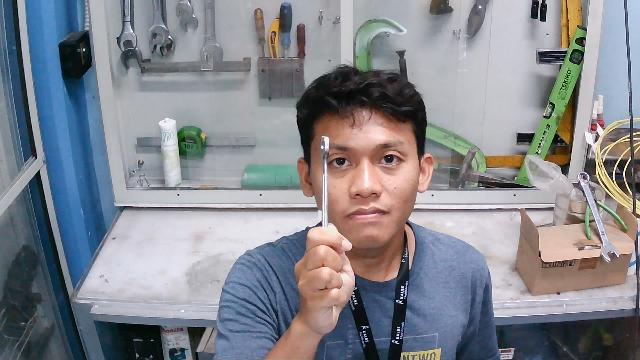kunci_pass_13: (295, 133, 349, 257)
